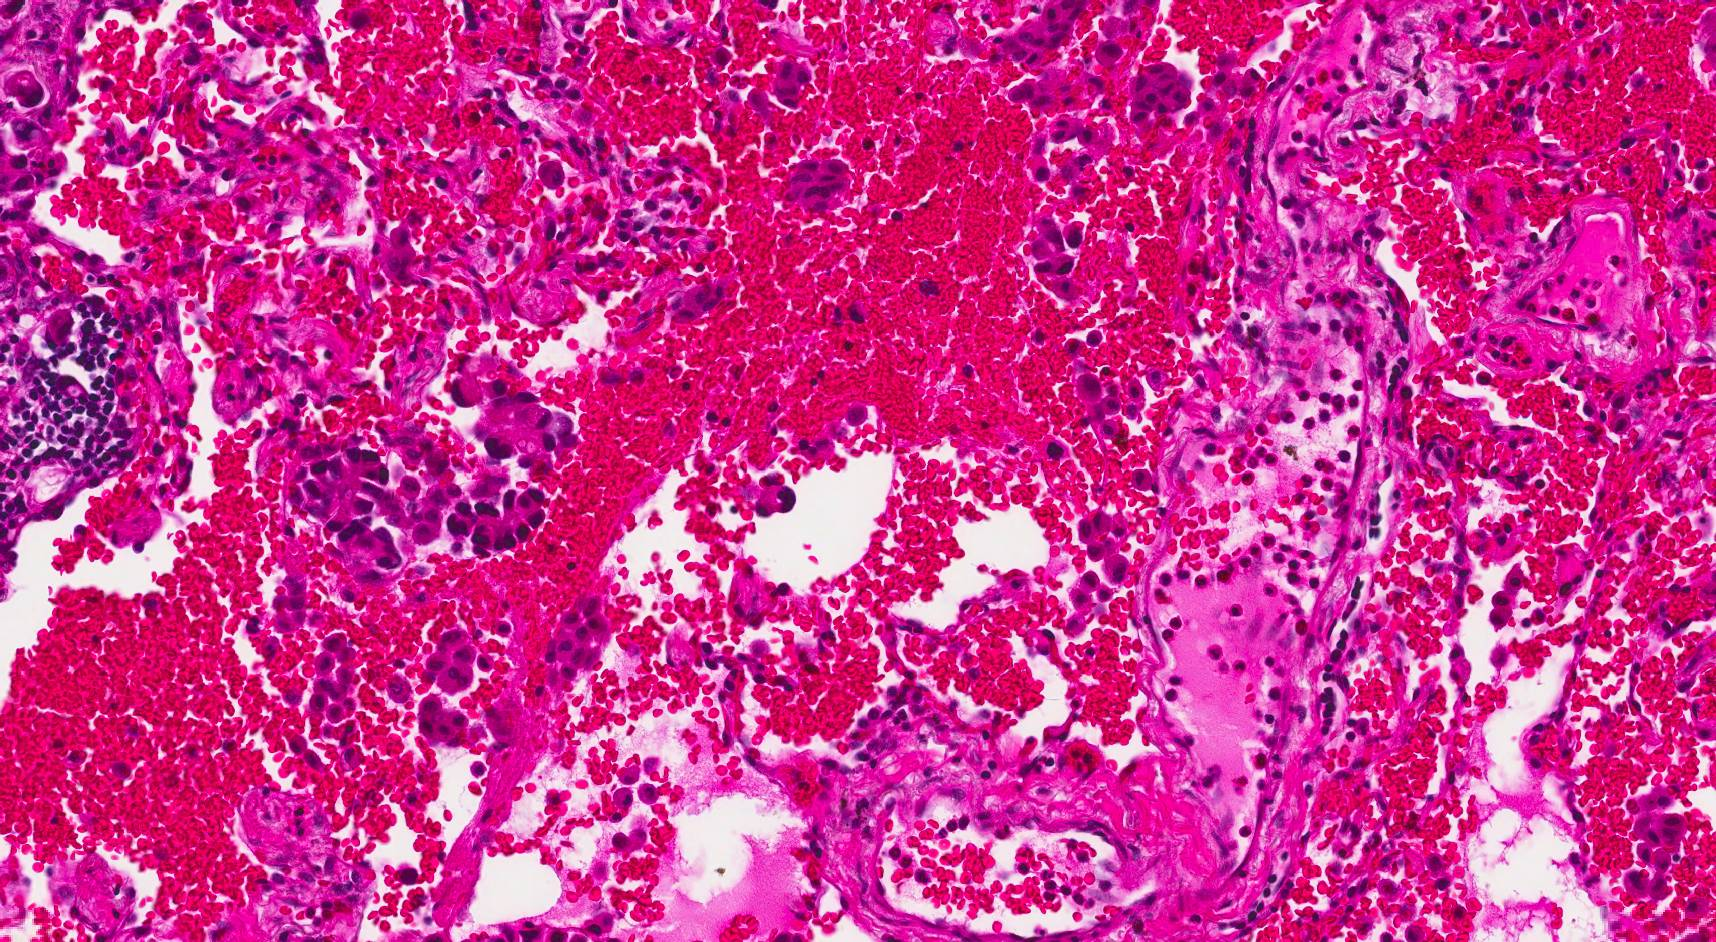stas: (449, 370, 580, 470), (299, 447, 388, 544), (442, 482, 549, 558), (753, 476, 798, 521)
